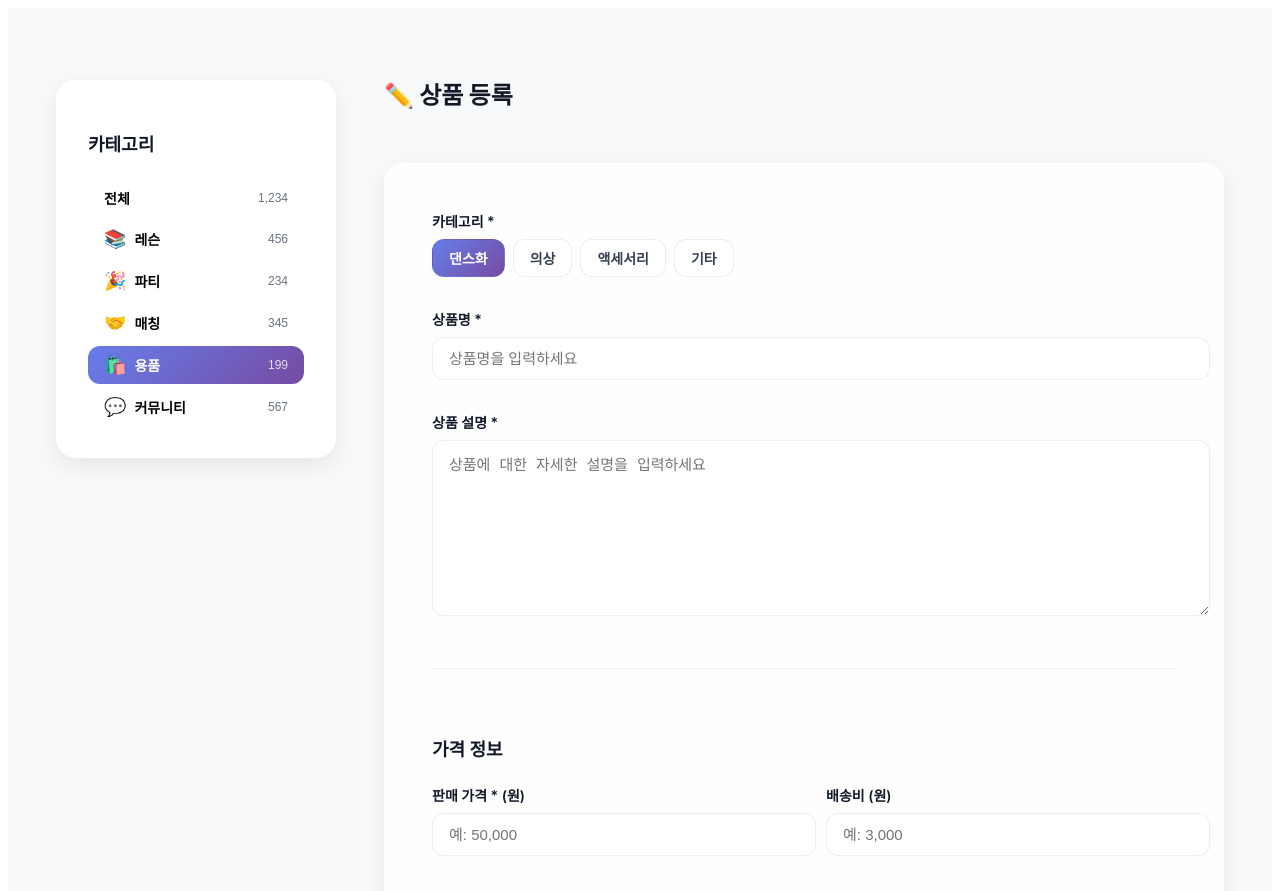
it: ProductForm 컴포넌트 › 가격 포맷팅 › 가격 입력 시 쉼표 포맷팅이 적용되어야 함
Type "50000" into the field labelled "판매 가격 * (원)" at (624, 834), box [432,813,816,856]
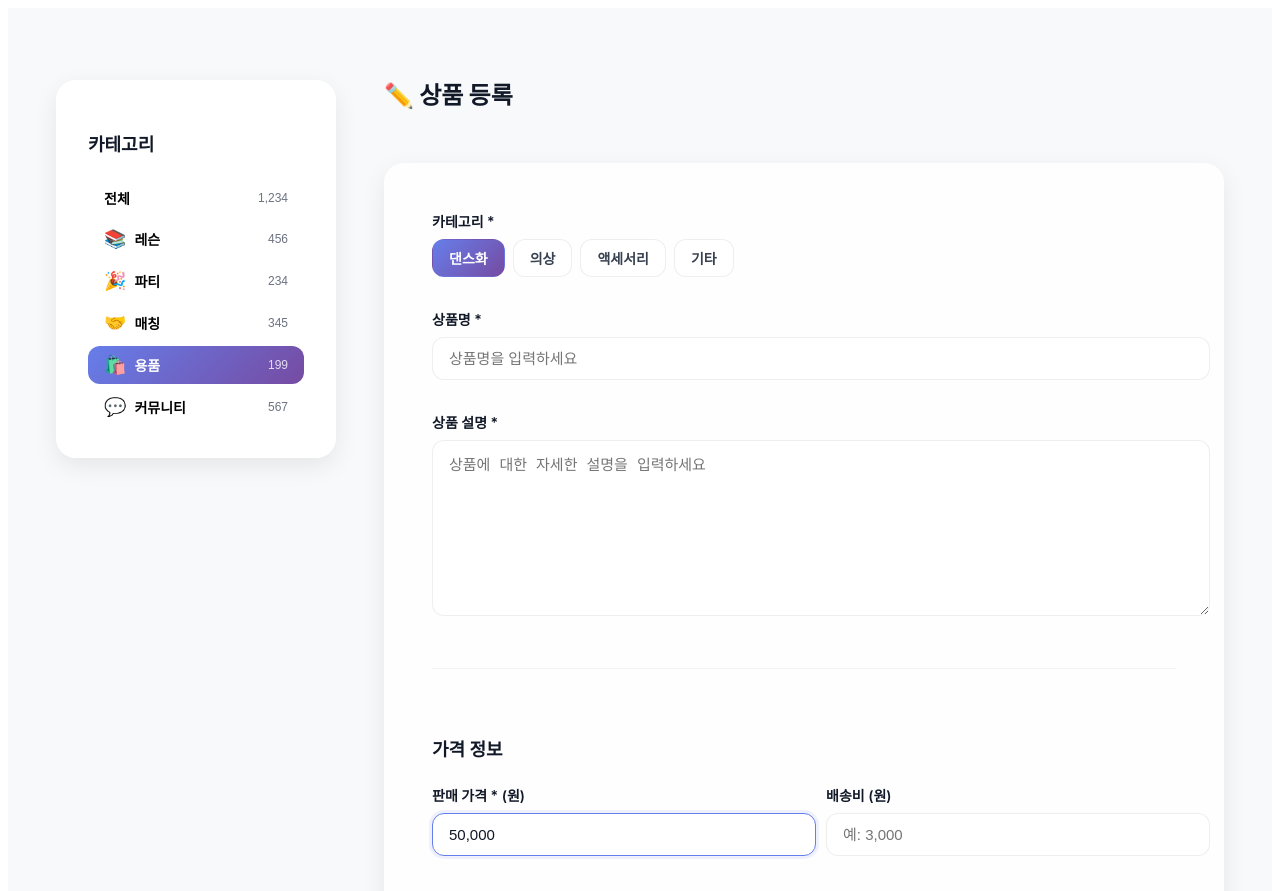
Expected: the field labelled "판매 가격 * (원)" holds "50,000", [432,813,816,856]
